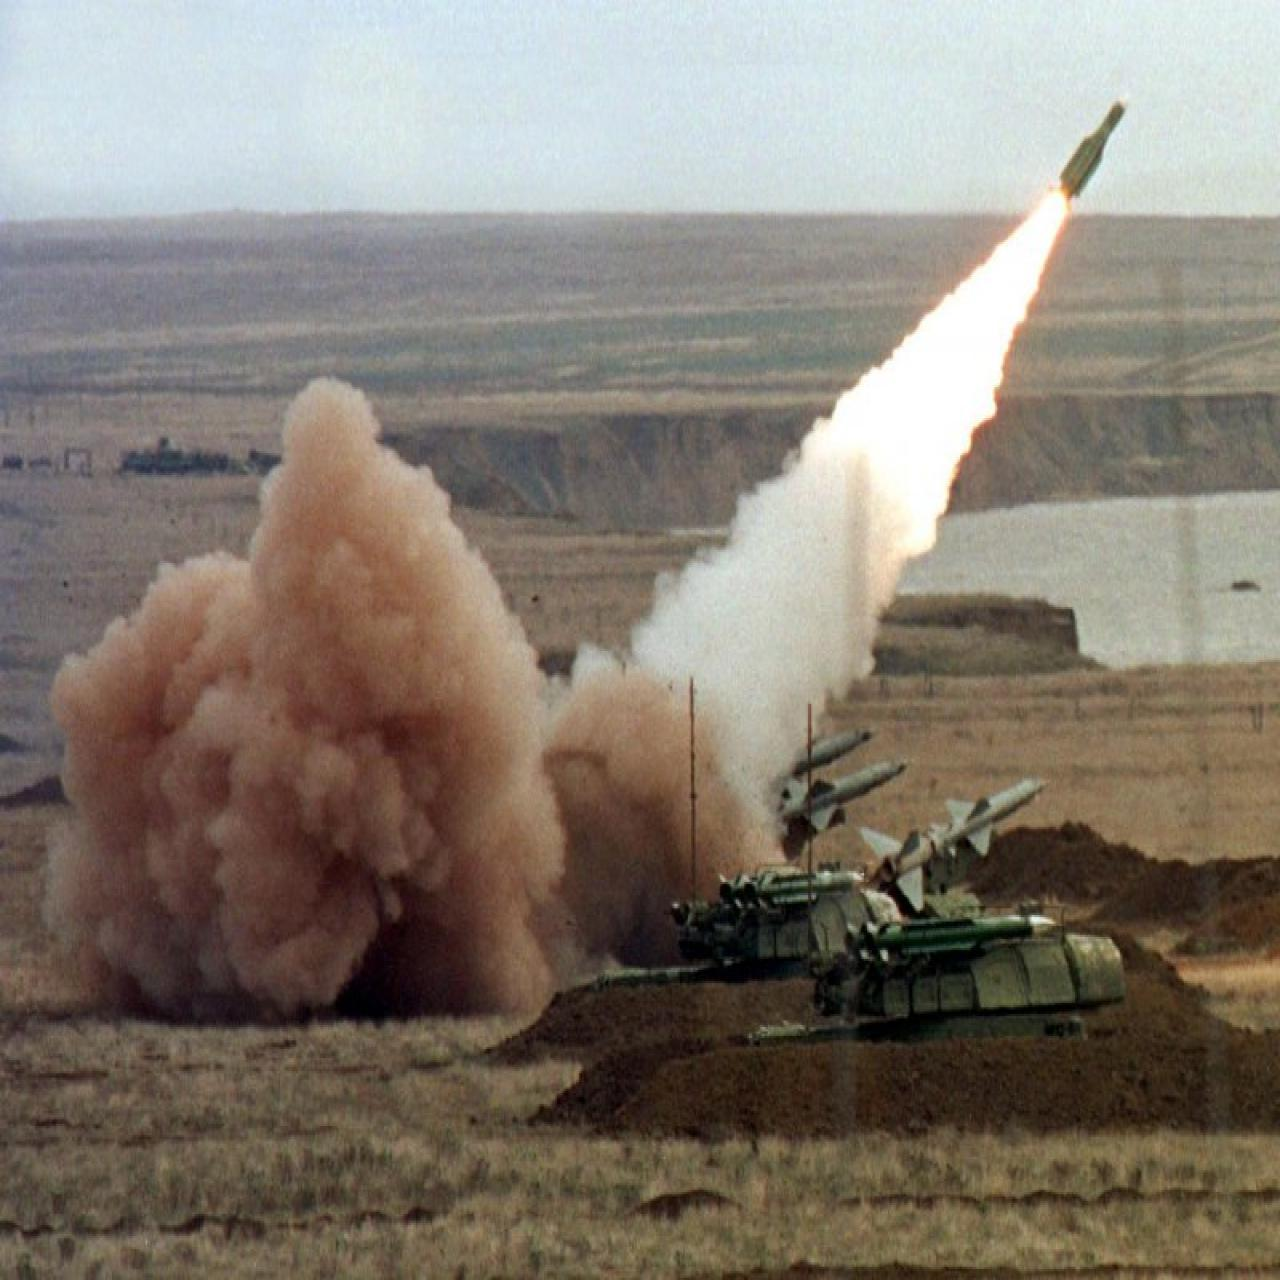MIL_Veh: (806, 916, 1155, 1067), (658, 865, 927, 997)
